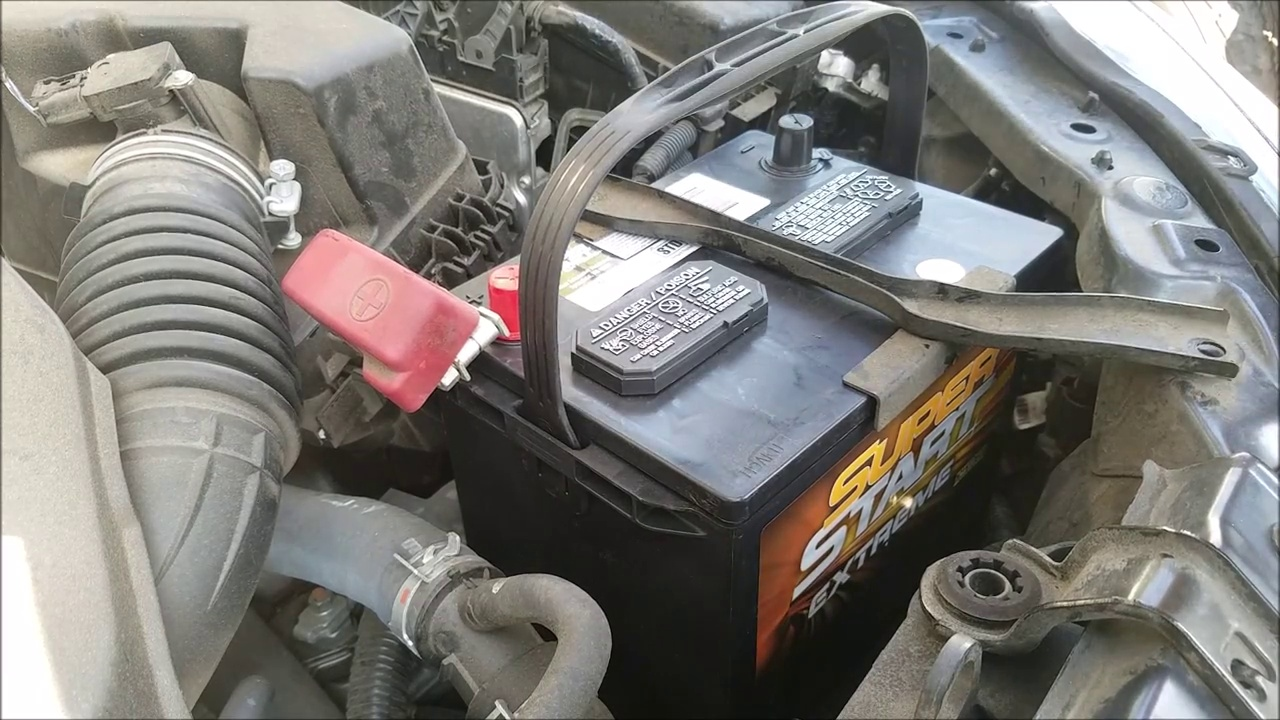battery: (414, 114, 1060, 492)
pos_disconnected: (290, 215, 559, 412)
